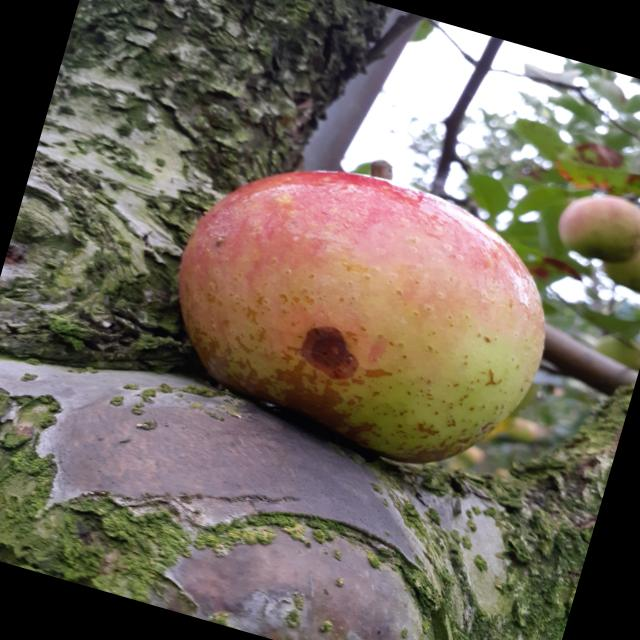rotten: (134, 124, 592, 509)
